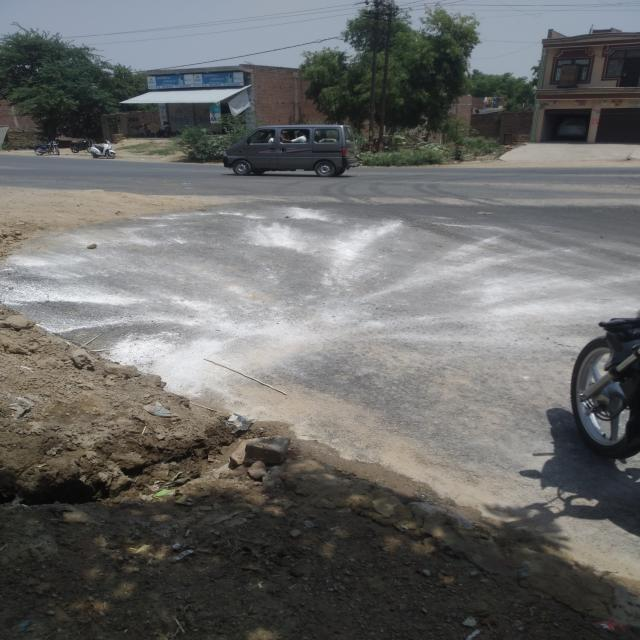Bike: (90, 141, 116, 160), (34, 140, 62, 156), (68, 139, 95, 154)
cars: (218, 122, 356, 181)
